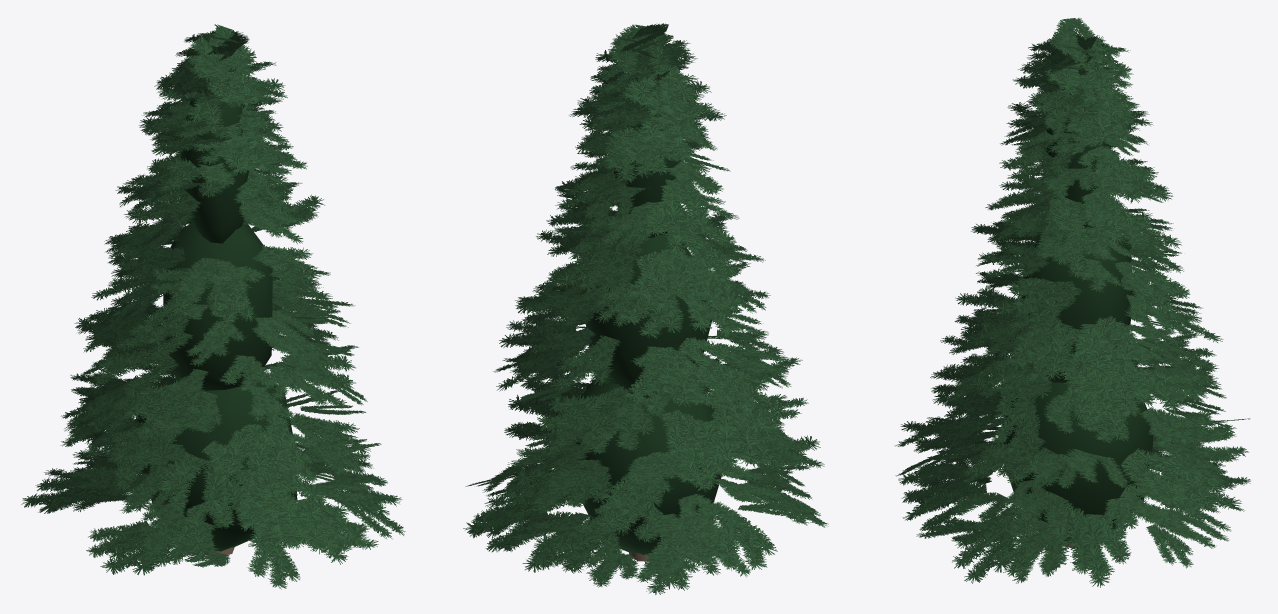
File: TAXUS_1.glb
3 views of the same model, side by side, from view 1: azimuth 30°, elevation 25°; view 2: azimuth 150°, elevation 25°; view 3: azimuth 270°, elevation 25° (orthographic). The views are drawn at different scales.
Parts seen in each view (by area): view 1: Arv_TAXUS_lod1; view 2: Arv_TAXUS_lod1; view 3: Arv_TAXUS_lod1.
Boxes of the visible parts, x1,y1,x2,y2 form: Arv_TAXUS_lod1: (21, 24, 405, 589); Arv_TAXUS_lod1: (463, 23, 828, 594); Arv_TAXUS_lod1: (894, 18, 1250, 587).
Size of the model in its own units: 7.21 by 10.32 by 6.9.
Materials: 3 (2 with a texture image).
